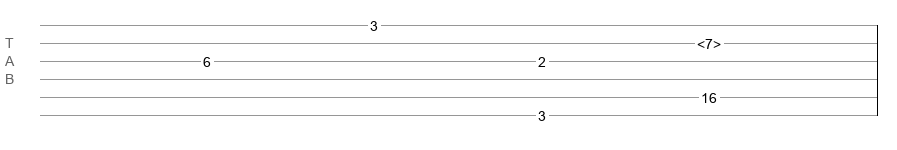16: (701, 90, 717, 100)
2: (538, 54, 546, 64)
3: (370, 18, 378, 28), (538, 108, 546, 118)
6: (203, 54, 211, 64)
harmonic: (697, 36, 721, 46)
